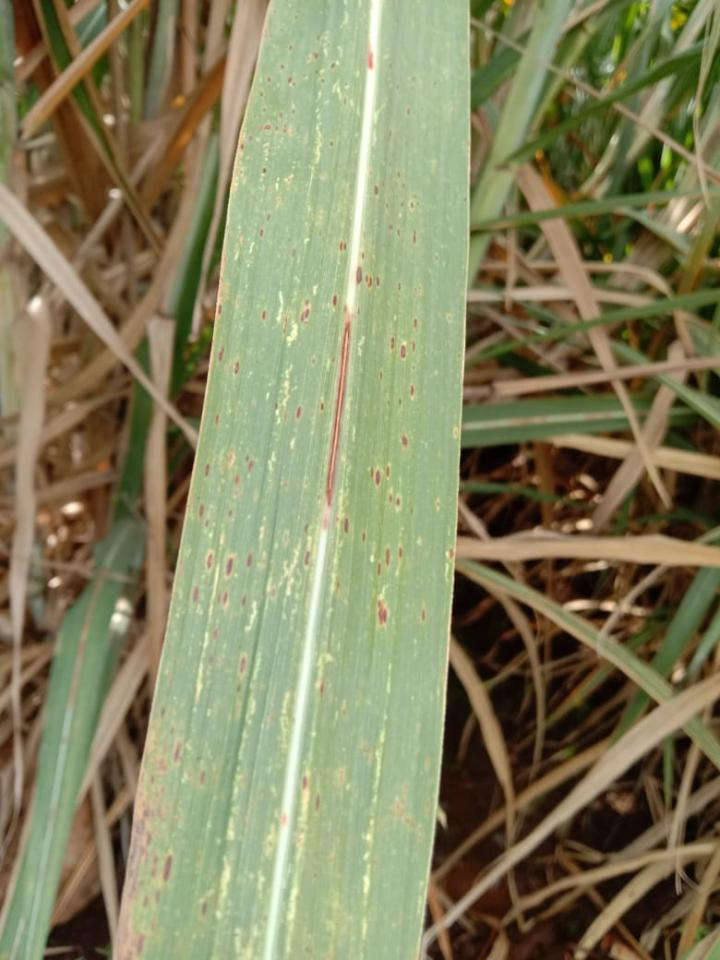RedRot: (321, 307, 354, 504), (364, 43, 379, 80)
Rust: (335, 312, 422, 635), (113, 697, 213, 959), (188, 404, 259, 699), (234, 26, 299, 183), (370, 167, 425, 251), (330, 236, 386, 293), (214, 296, 245, 382), (309, 32, 343, 91), (298, 517, 317, 575), (194, 893, 215, 924), (257, 207, 275, 242), (296, 295, 315, 325), (289, 398, 306, 427), (310, 789, 325, 818), (417, 602, 431, 633), (257, 300, 269, 332), (444, 539, 458, 566), (330, 286, 340, 321), (298, 768, 310, 794), (288, 237, 299, 263), (319, 390, 329, 418)
